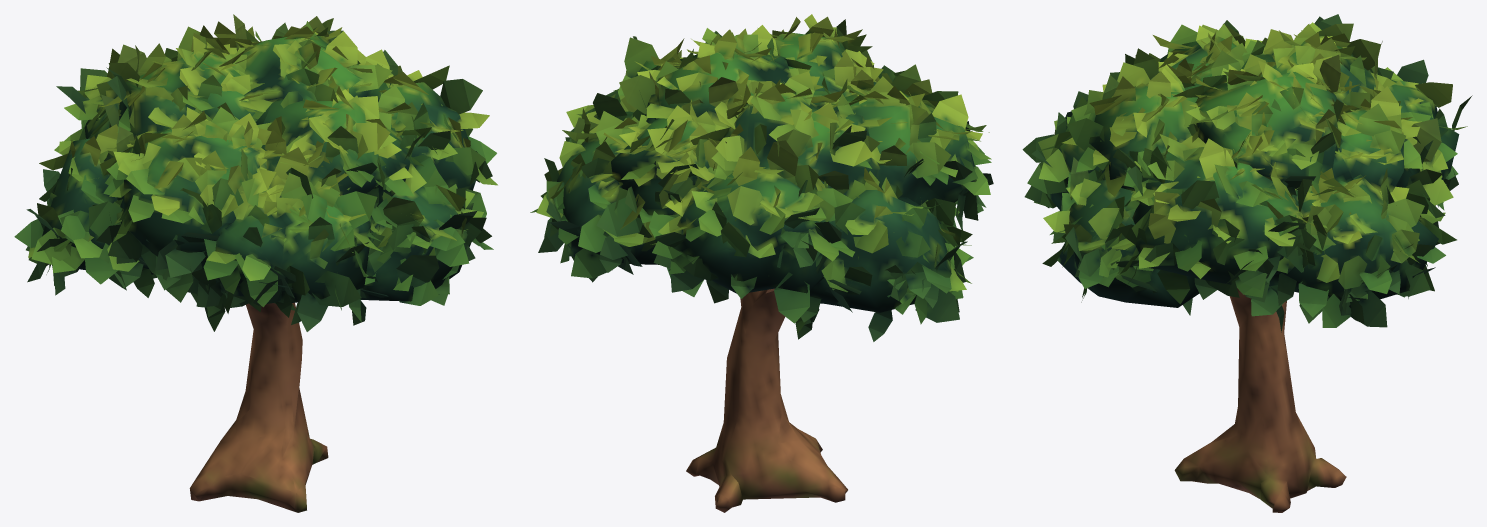
Rendered from tree_c.glb.
3 views of the same model, side by side, from view 1: azimuth 30°, elevation 25°; view 2: azimuth 150°, elevation 25°; view 3: azimuth 270°, elevation 25° (orthographic).
Visible parts, largest first — view 1: tree_c; view 2: tree_c; view 3: tree_c.
Part boxes in pixels (x1,y1,x2,y2): tree_c: (14, 14, 497, 512); tree_c: (530, 14, 993, 512); tree_c: (1022, 14, 1472, 512).
Bounding box in the file's own units: 4.4 × 4.44 × 4.08.
Materials: 1 (1 with a texture image).
